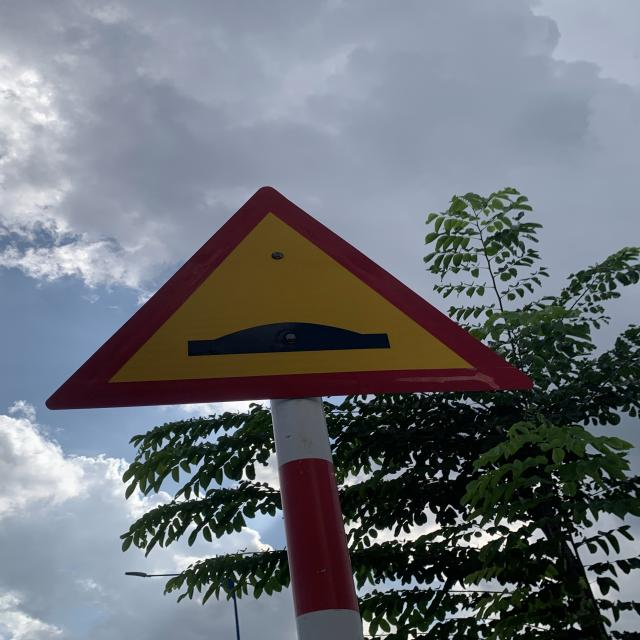Duong_Cong_Ben_Phai: (51, 184, 524, 406)
